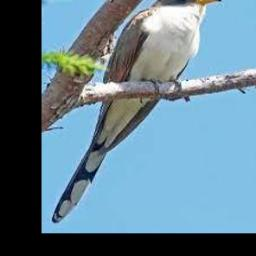Cuckoo: (52, 0, 223, 223)
